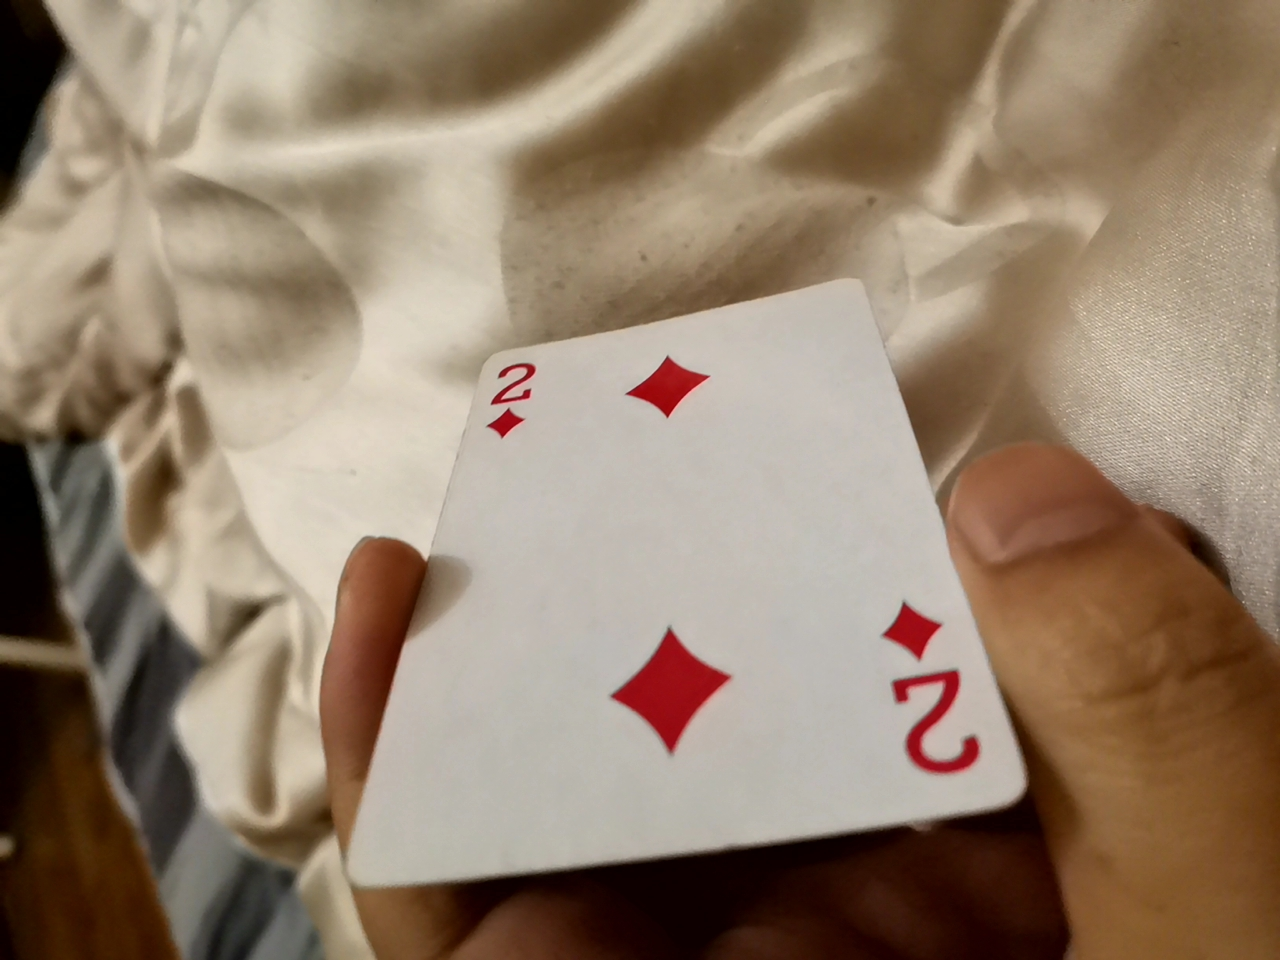fk 2: (340, 254, 995, 903)
